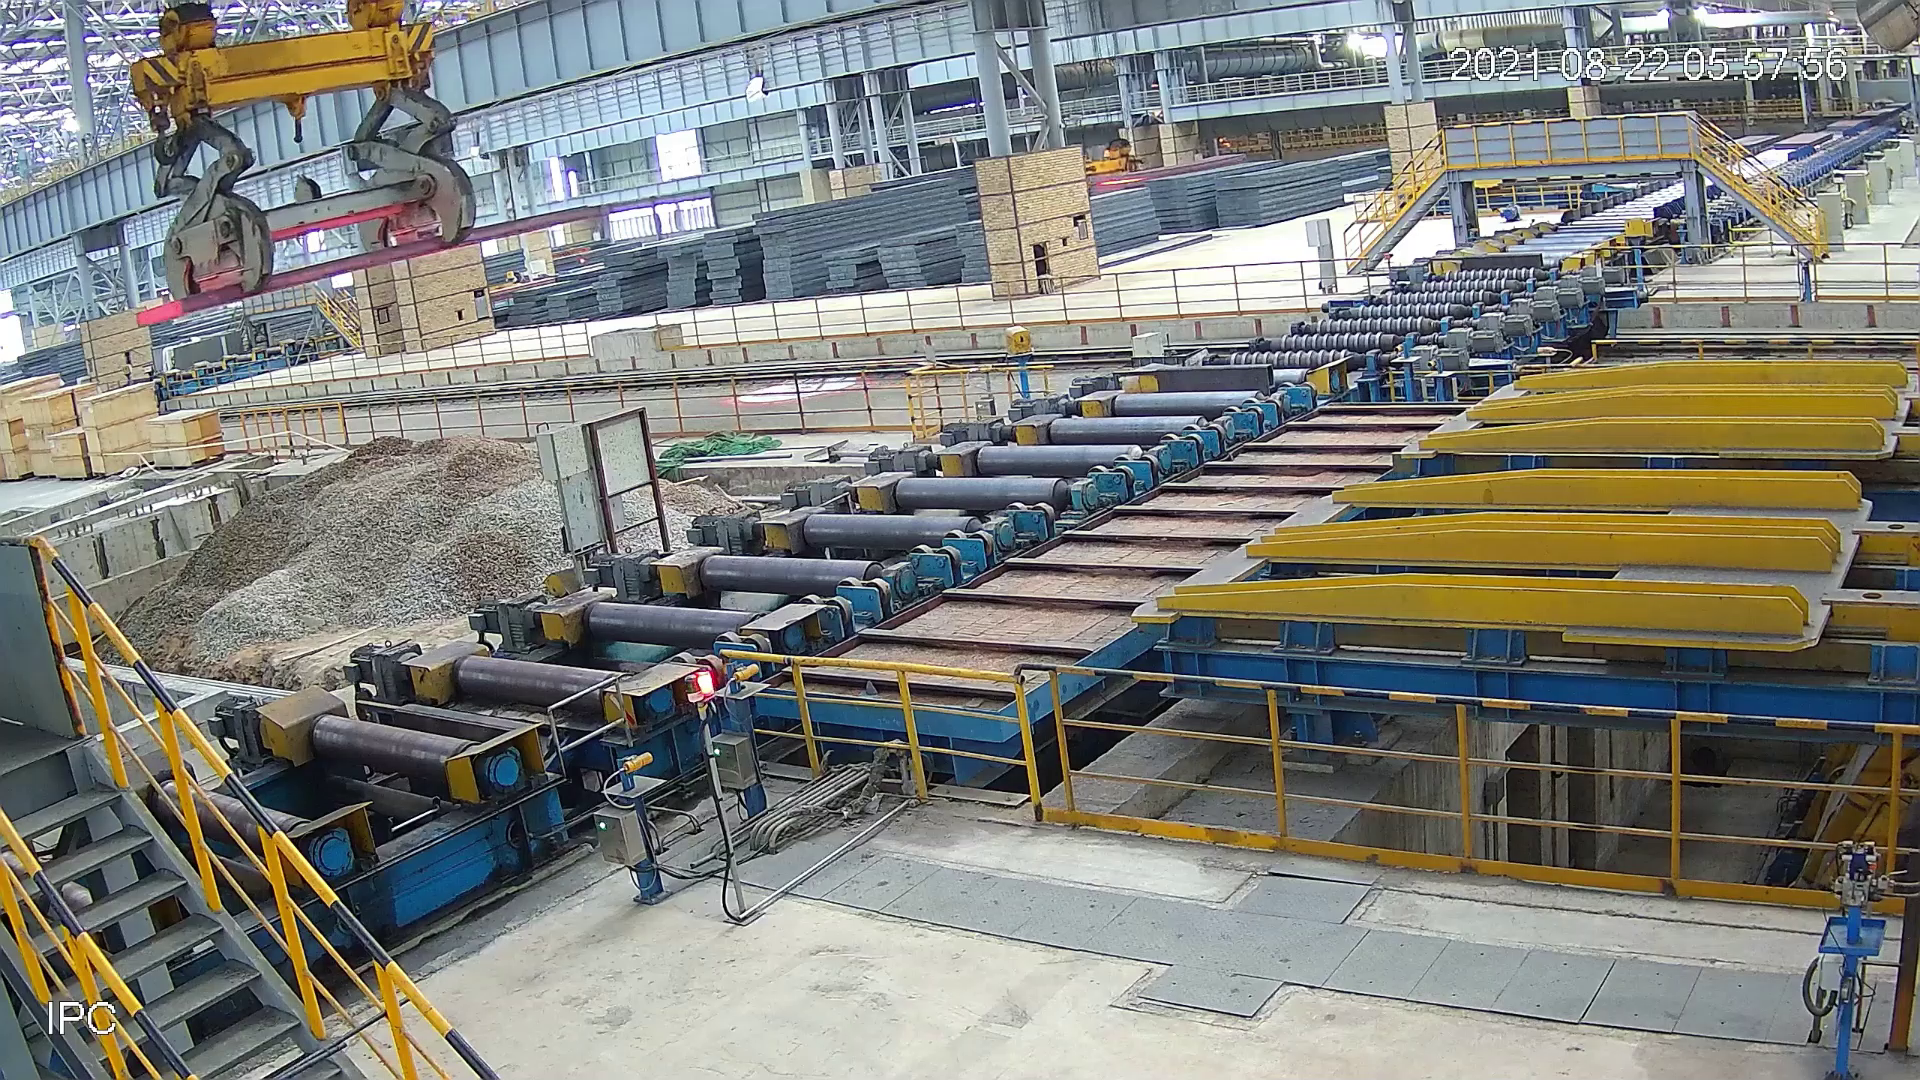craneandslab: (125, 1, 593, 342)
